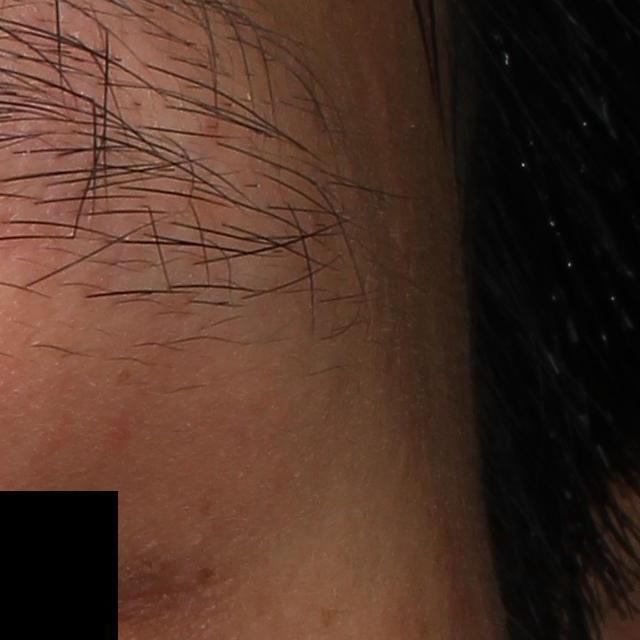melasma: (318, 605, 343, 633), (193, 566, 220, 582)
